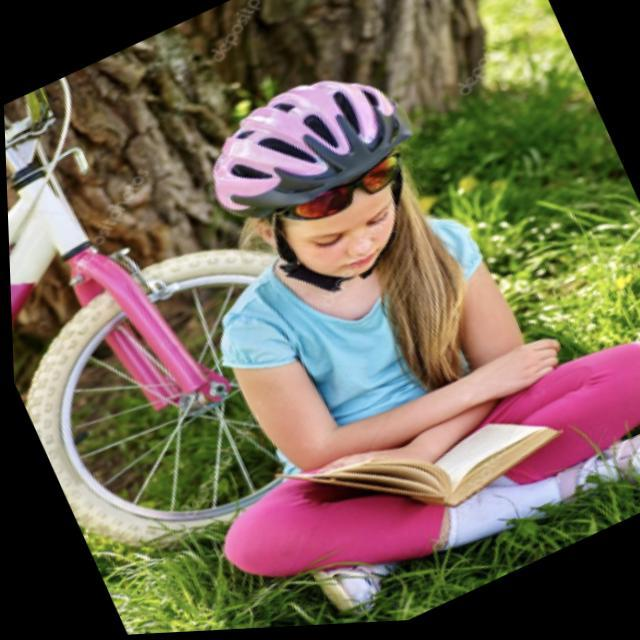Helmet: (203, 61, 412, 288)
